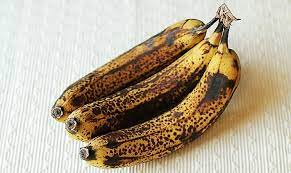looks_defective: (58, 4, 251, 167)
